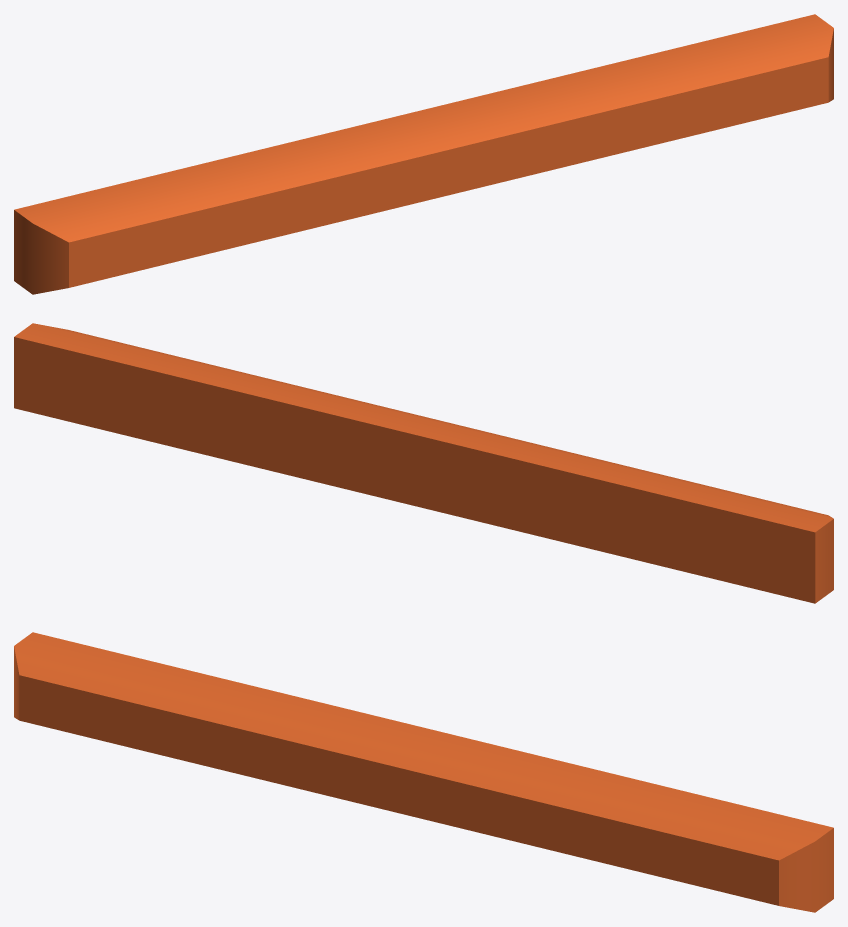
The model's file is escalon_litera.fbx.
3 views of the same model, one above another, from view 1: azimuth 30°, elevation 25°; view 2: azimuth 150°, elevation 25°; view 3: azimuth 330°, elevation 25° (orthographic).
Parts seen in each view (by area): view 1: escalon_litera; view 2: escalon_litera; view 3: escalon_litera.
Part boxes in pixels (x1,y1,x2,y2): escalon_litera: (14,14,833,294); escalon_litera: (14,323,833,603); escalon_litera: (14,632,833,912).
Size of the model in its own units: 11219 by 954 by 828.
